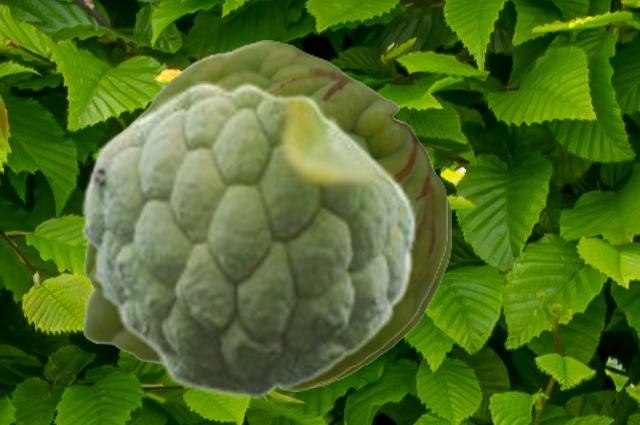atis: (82, 40, 446, 390), (80, 81, 418, 397), (319, 115, 450, 386)
